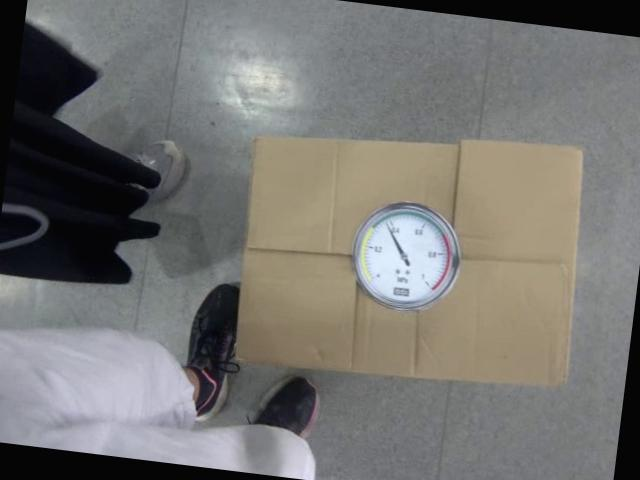Dashboard: (344, 196, 468, 320)
ssi: (392, 284, 411, 298)
